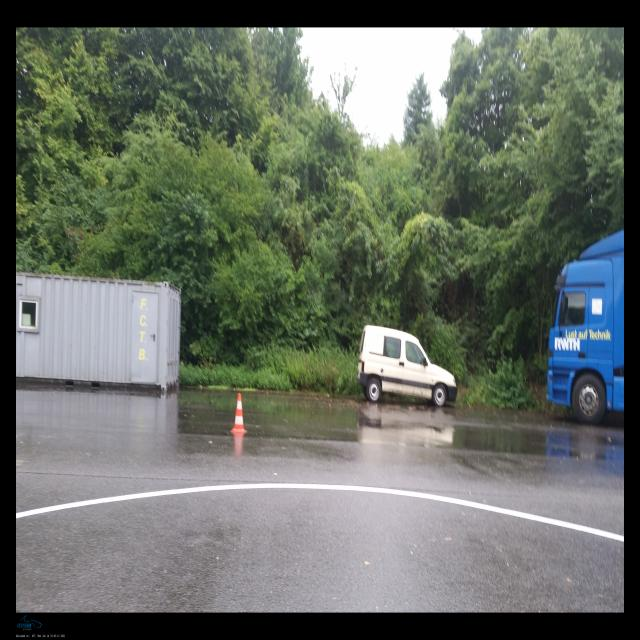large_orange_cone: (231, 393, 247, 434)
